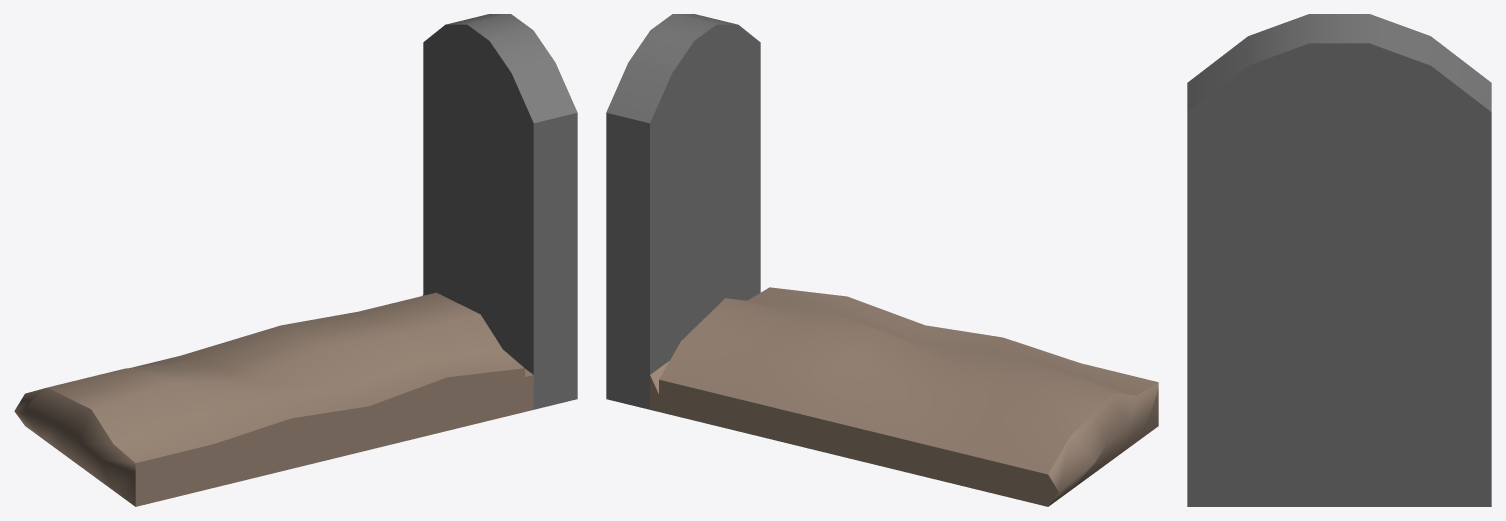
Rendered from grave01.fbx.
3 renders of one model, left to right at view 1: azimuth 30°, elevation 25°; view 2: azimuth 150°, elevation 25°; view 3: azimuth 270°, elevation 25°, orthographic. The views are drawn at different scales.
Parts seen in each view (by area): view 1: pCube1; view 2: pCube1; view 3: pCube1.
Boxes of the visible parts, x1=… form: pCube1: x1=14, y1=14, x2=577, y2=506; pCube1: x1=606, y1=14, x2=1158, y2=506; pCube1: x1=1187, y1=14, x2=1491, y2=506.
Bounding box in the file's own units: 7.59 × 5.22 × 3.11.
